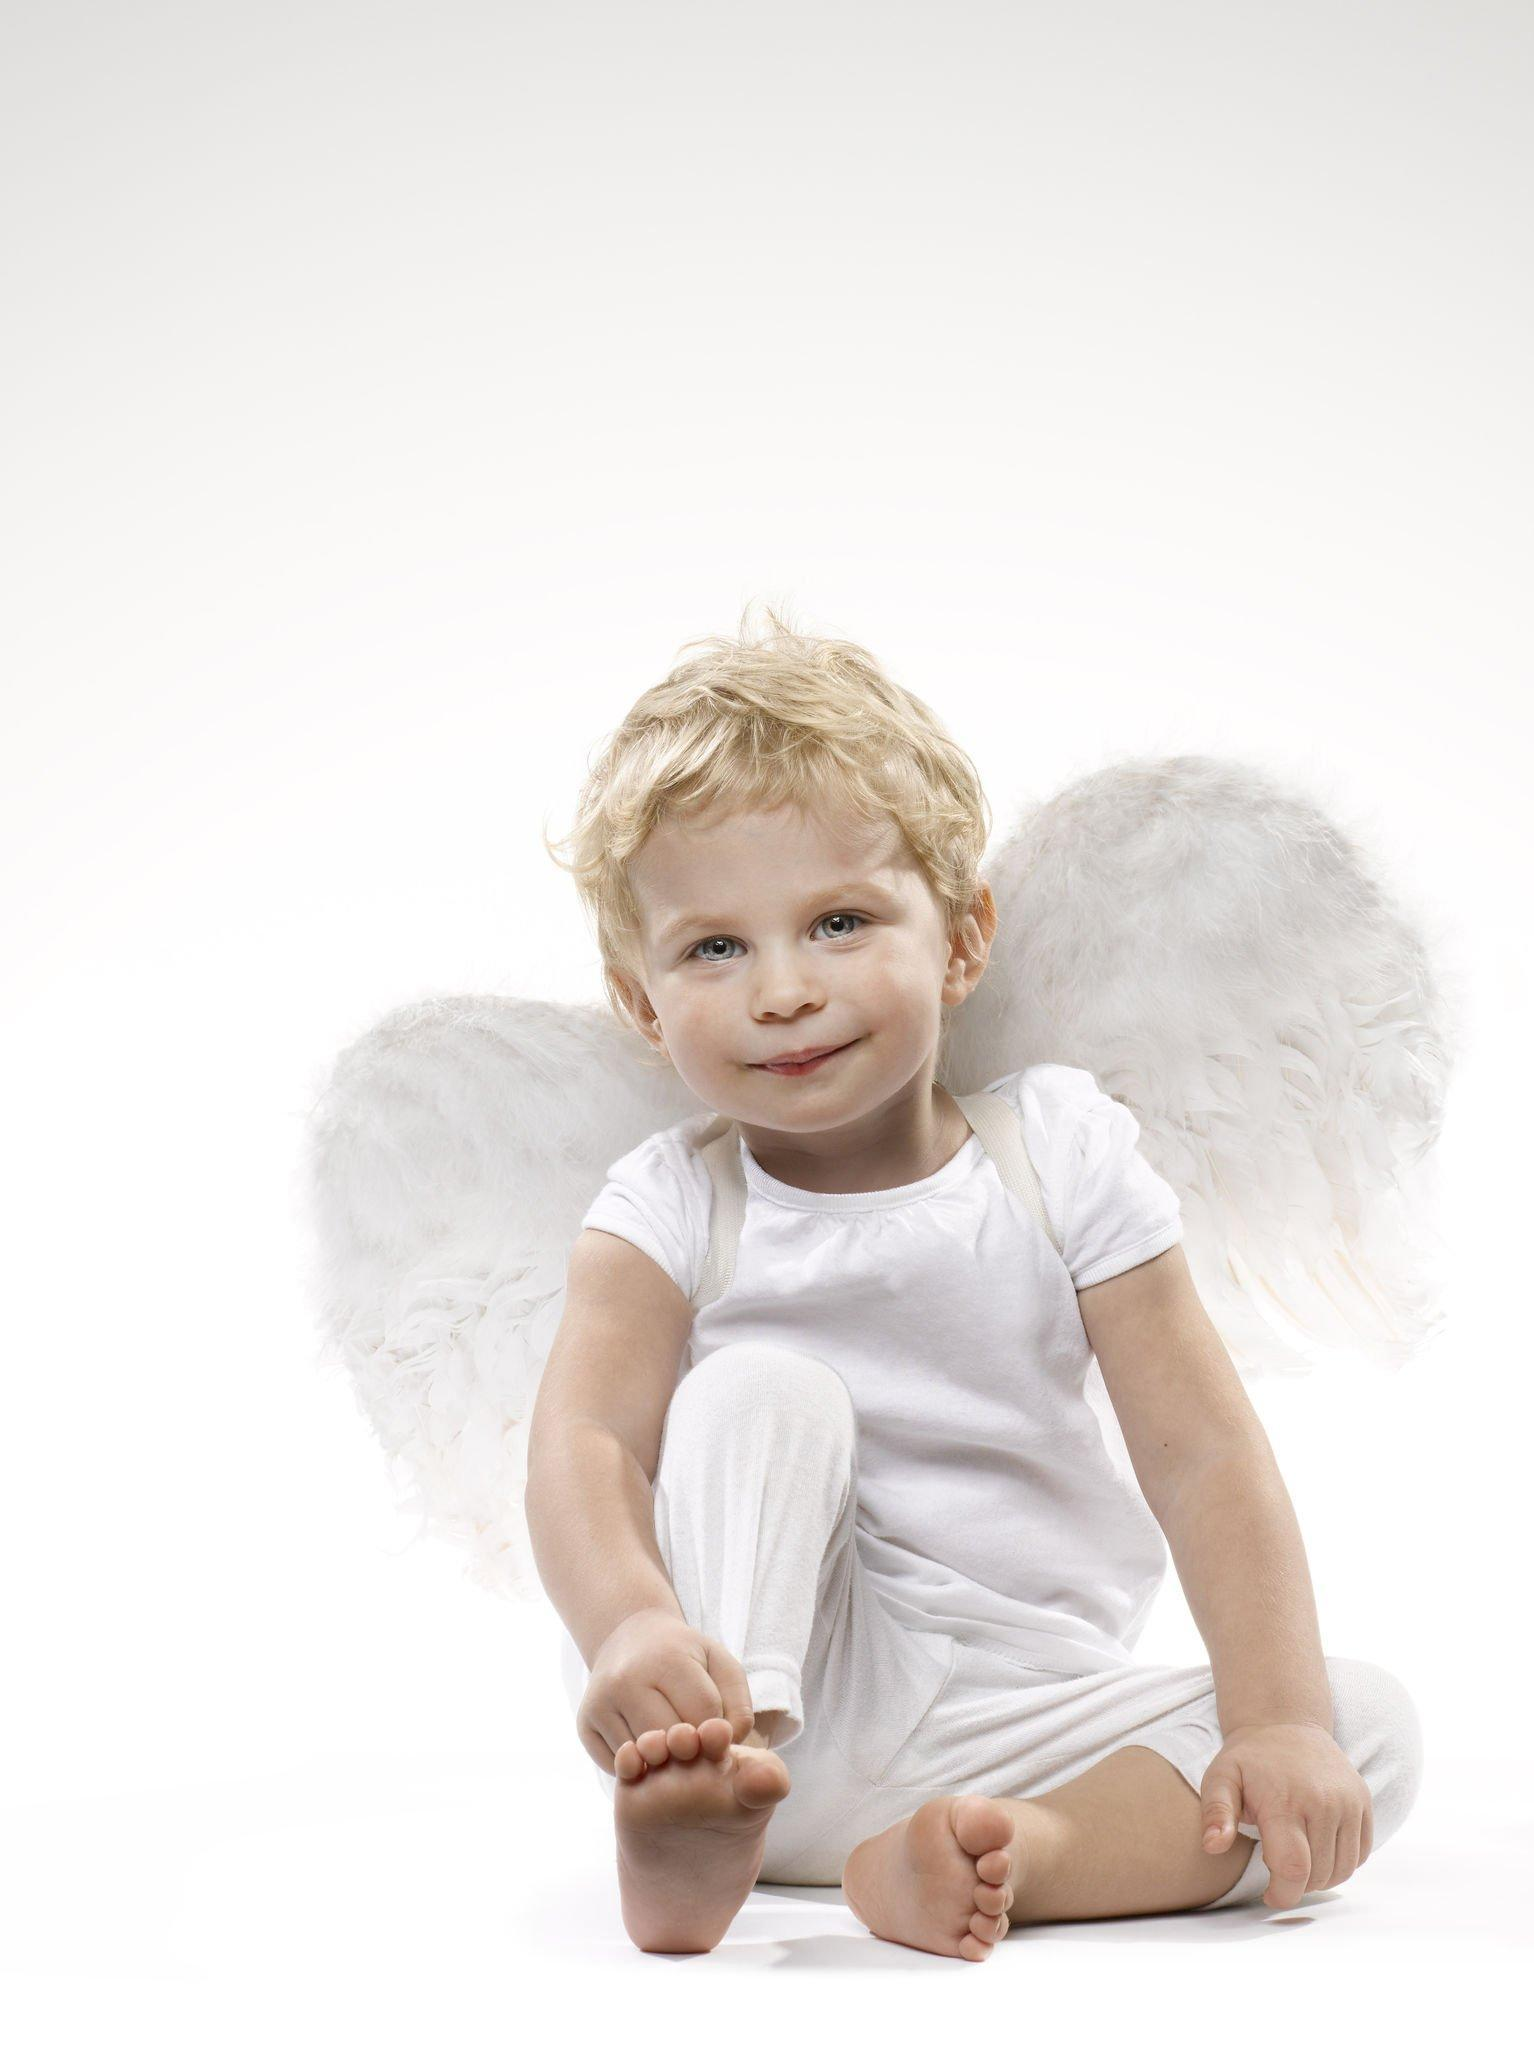Healthy: (612, 706, 964, 1173)
